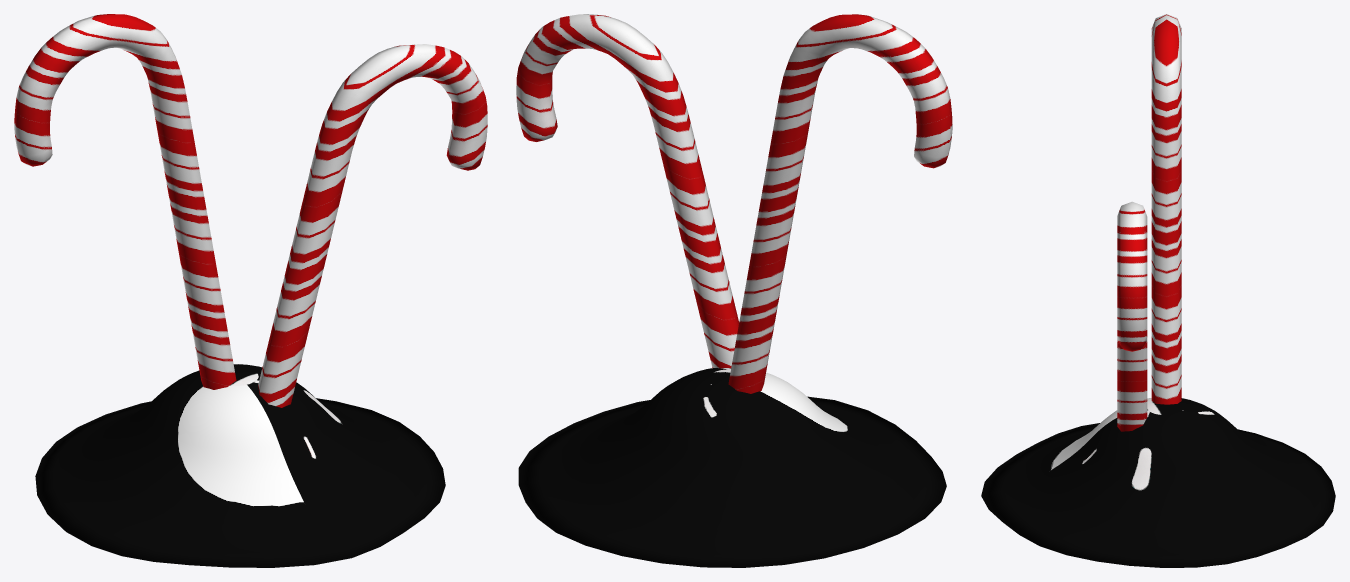
Rendered from Candy_cane_decoration.fbx.
The picture shows the model from 3 angles, left to right: view 1: azimuth 30°, elevation 25°; view 2: azimuth 150°, elevation 25°; view 3: azimuth 270°, elevation 25°; orthographic projection. The views are drawn at different scales.
Visible parts, largest first — view 1: candy_cane_decor.001; view 2: candy_cane_decor.001; view 3: candy_cane_decor.001.
Part boxes in pixels (x1=…): candy_cane_decor.001: x1=14, y1=14, x2=487, y2=567; candy_cane_decor.001: x1=516, y1=14, x2=952, y2=567; candy_cane_decor.001: x1=981, y1=14, x2=1335, y2=567.
Size of the model in its own units: 661 by 698 by 540.
